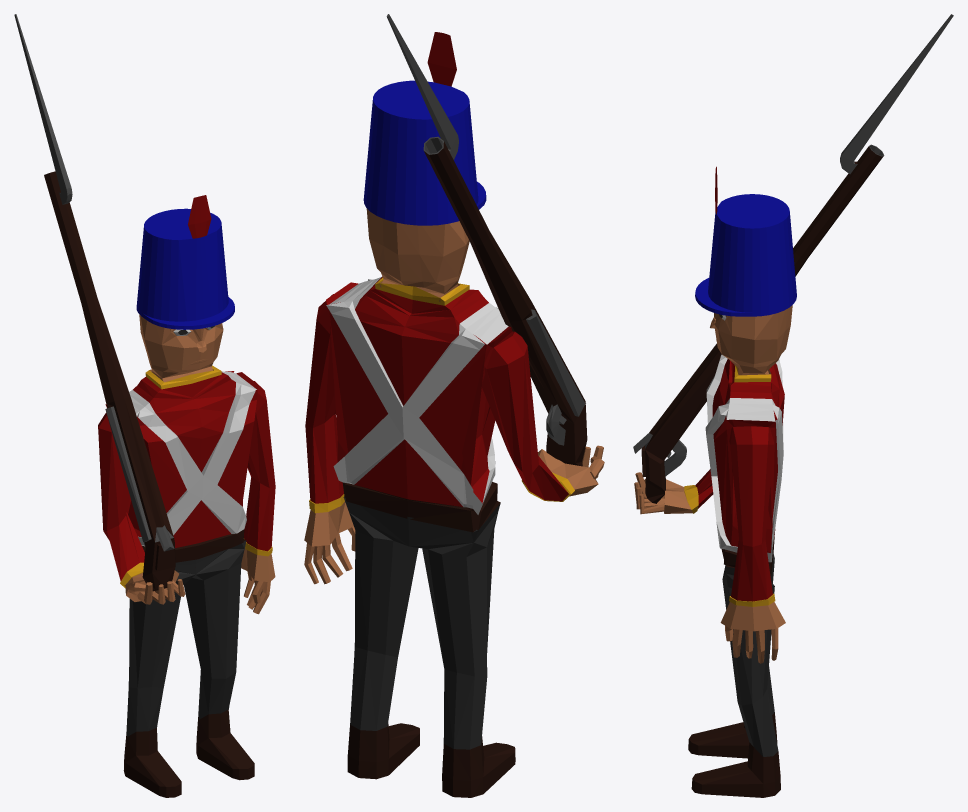
The model's file is Infantry.obj.
The picture shows the model from 3 angles, left to right: view 1: azimuth 30°, elevation 25°; view 2: azimuth 150°, elevation 25°; view 3: azimuth 270°, elevation 25°; orthographic projection. The views are drawn at different scales.
Parts seen in each view (by area): view 1: {Man}_Circle, Cube_Cube.001; view 2: {Man}_Circle, Cube_Cube.001; view 3: {Man}_Circle, Cube_Cube.001.
Boxes of the visible parts, <box> form: {Man}_Circle: <box>98,195,275,797</box>; Cube_Cube.001: <box>14,14,175,591</box>; {Man}_Circle: <box>304,32,604,797</box>; Cube_Cube.001: <box>386,14,587,466</box>; {Man}_Circle: <box>634,166,796,797</box>; Cube_Cube.001: <box>633,14,953,503</box>.
Bounding box in the file's own units: 5.63 × 19.72 × 7.93.
